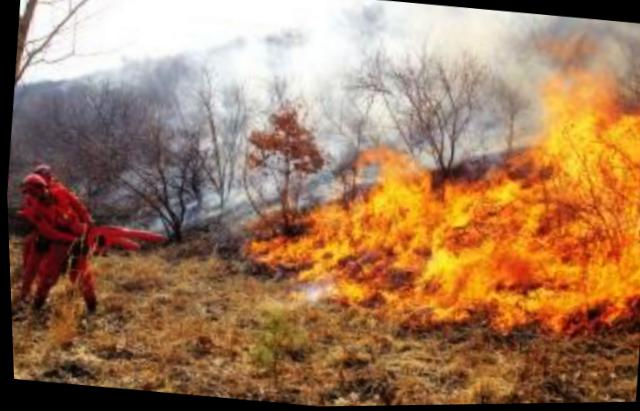fire: (241, 38, 639, 339)
